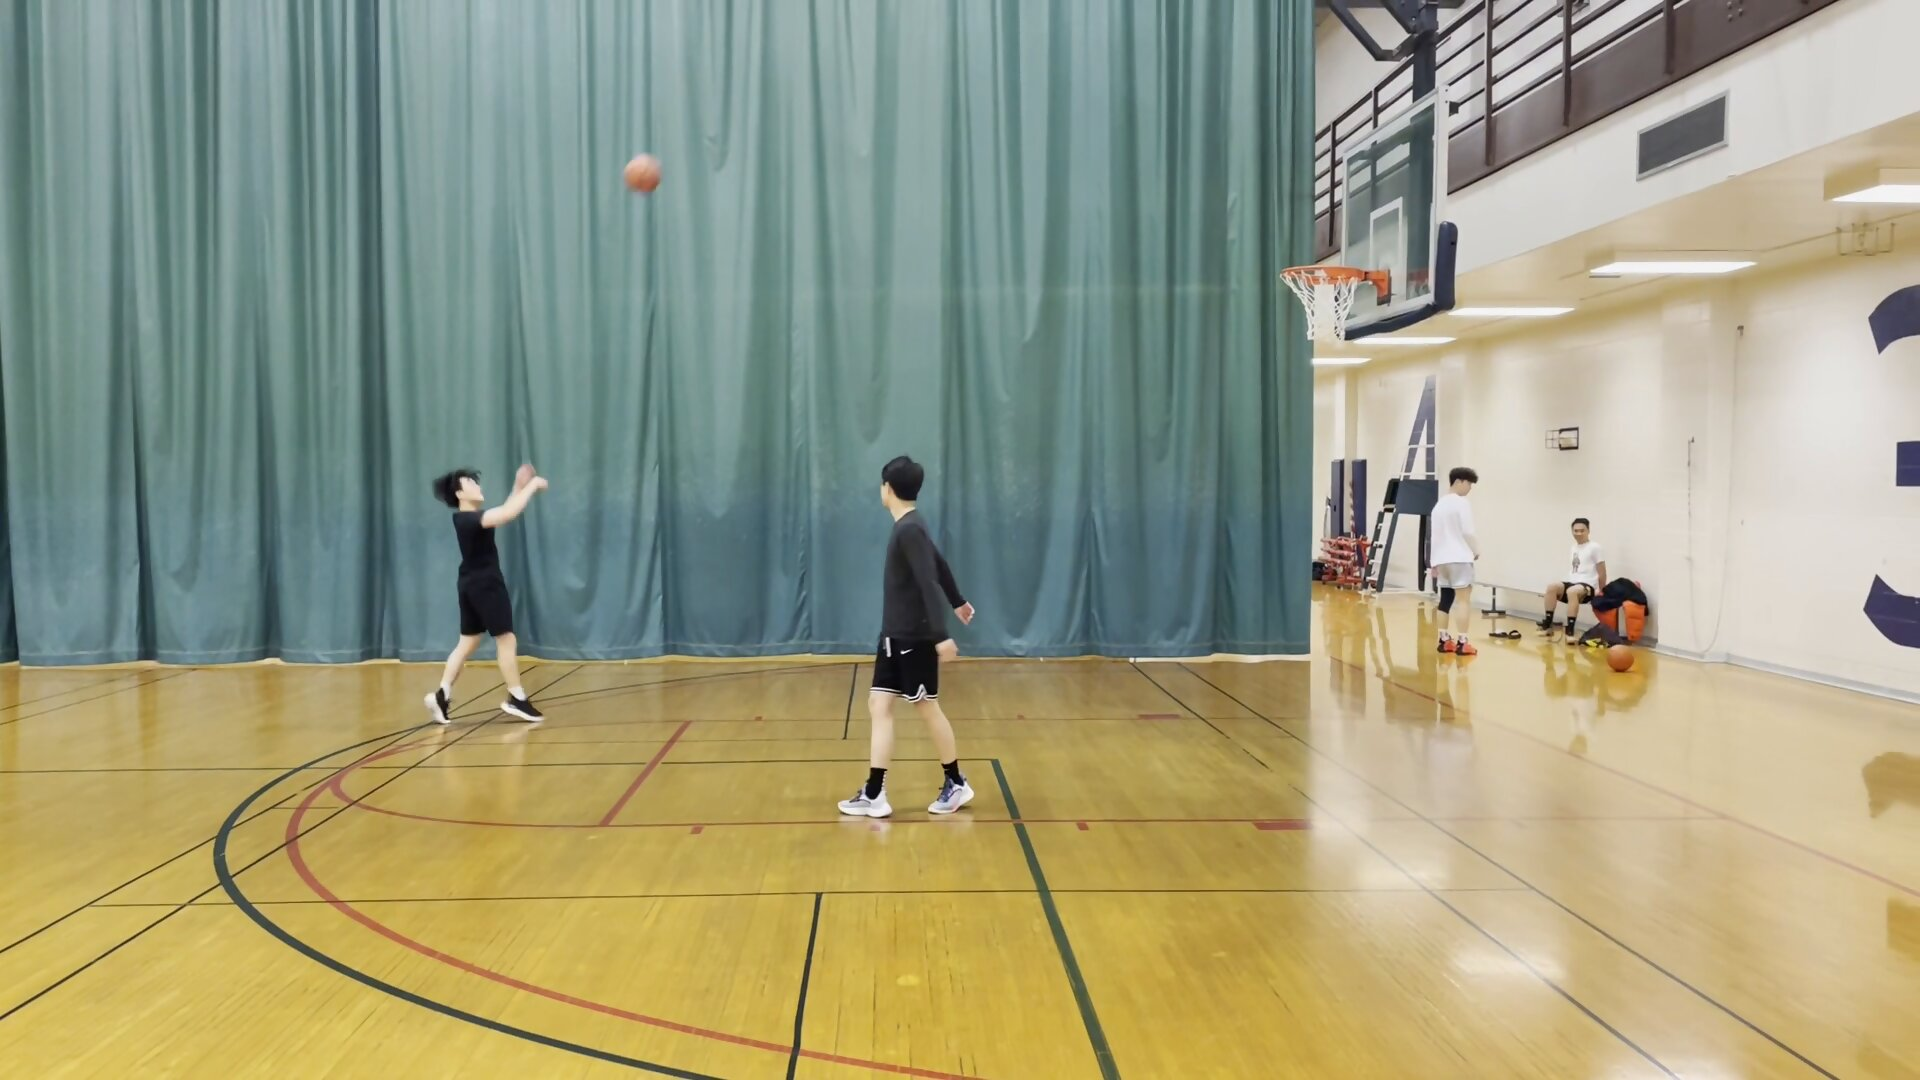ball: (625, 153, 662, 197), (1606, 639, 1638, 676)
net: (1300, 321, 1353, 351)
player: (838, 446, 989, 829), (427, 464, 551, 730), (1424, 463, 1488, 663), (1539, 515, 1608, 646)
rim: (1276, 259, 1374, 288)
